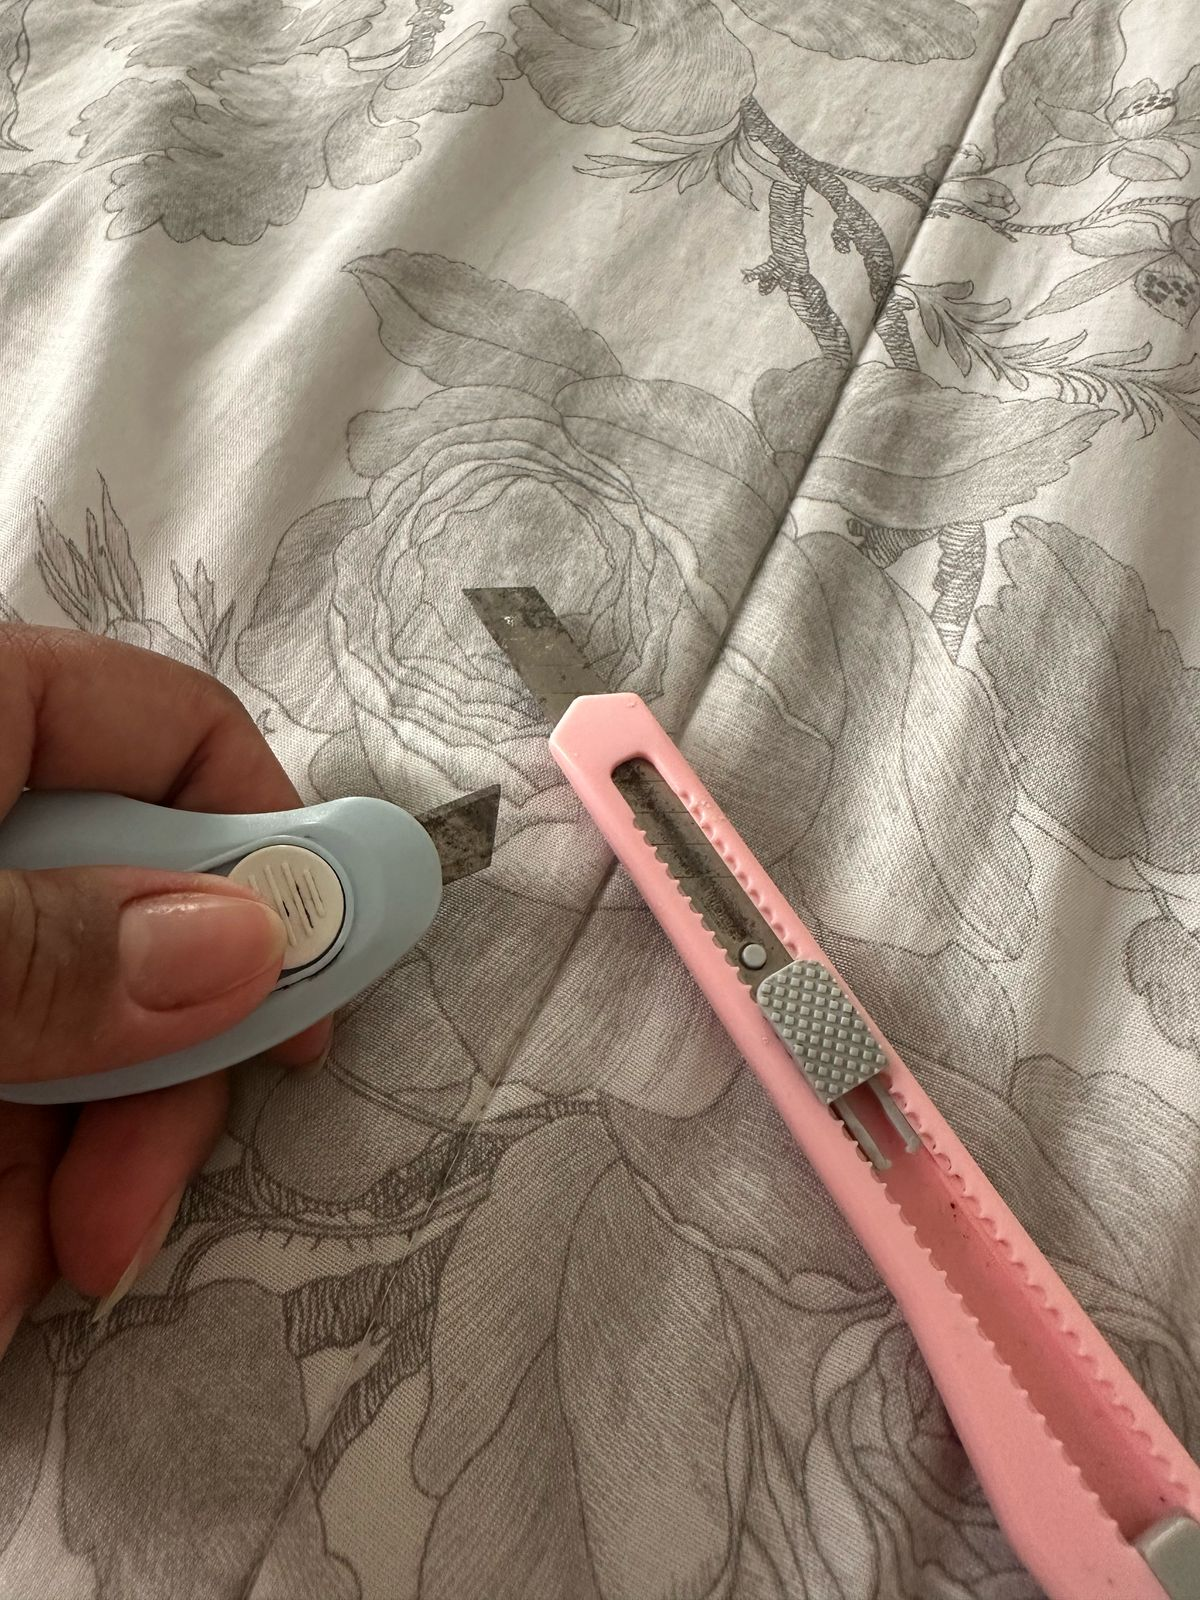estilete: (449, 571, 1141, 1519), (364, 728, 507, 902)
